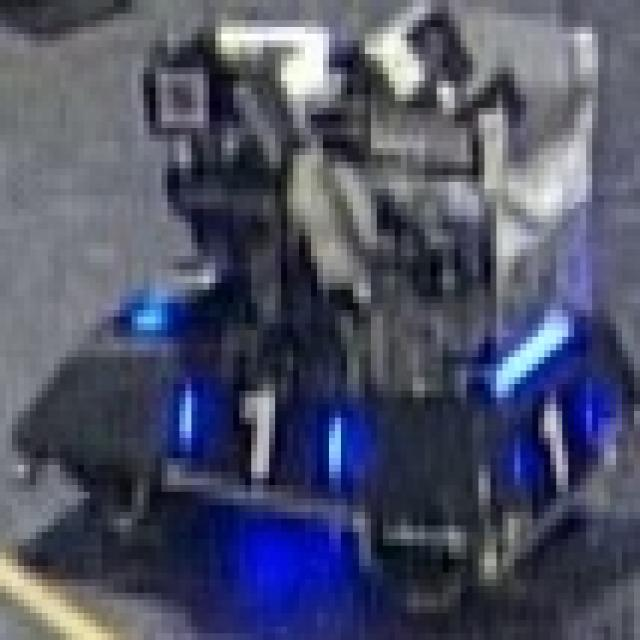B1: (167, 364, 347, 492), (509, 384, 604, 499)
